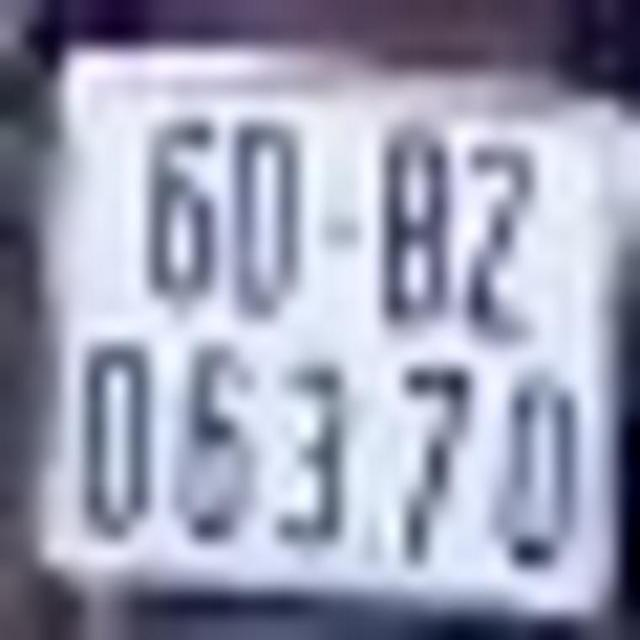0: (70, 331, 158, 544), (496, 361, 583, 576), (228, 110, 302, 324)
2: (462, 127, 542, 340)
3: (277, 360, 350, 559)
6: (178, 339, 264, 552), (140, 108, 215, 314)
7: (387, 348, 480, 578)
B: (371, 118, 453, 342)
